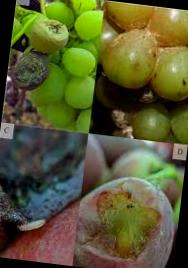Grape Rotten: (89, 0, 188, 144), (1, 0, 105, 133)
